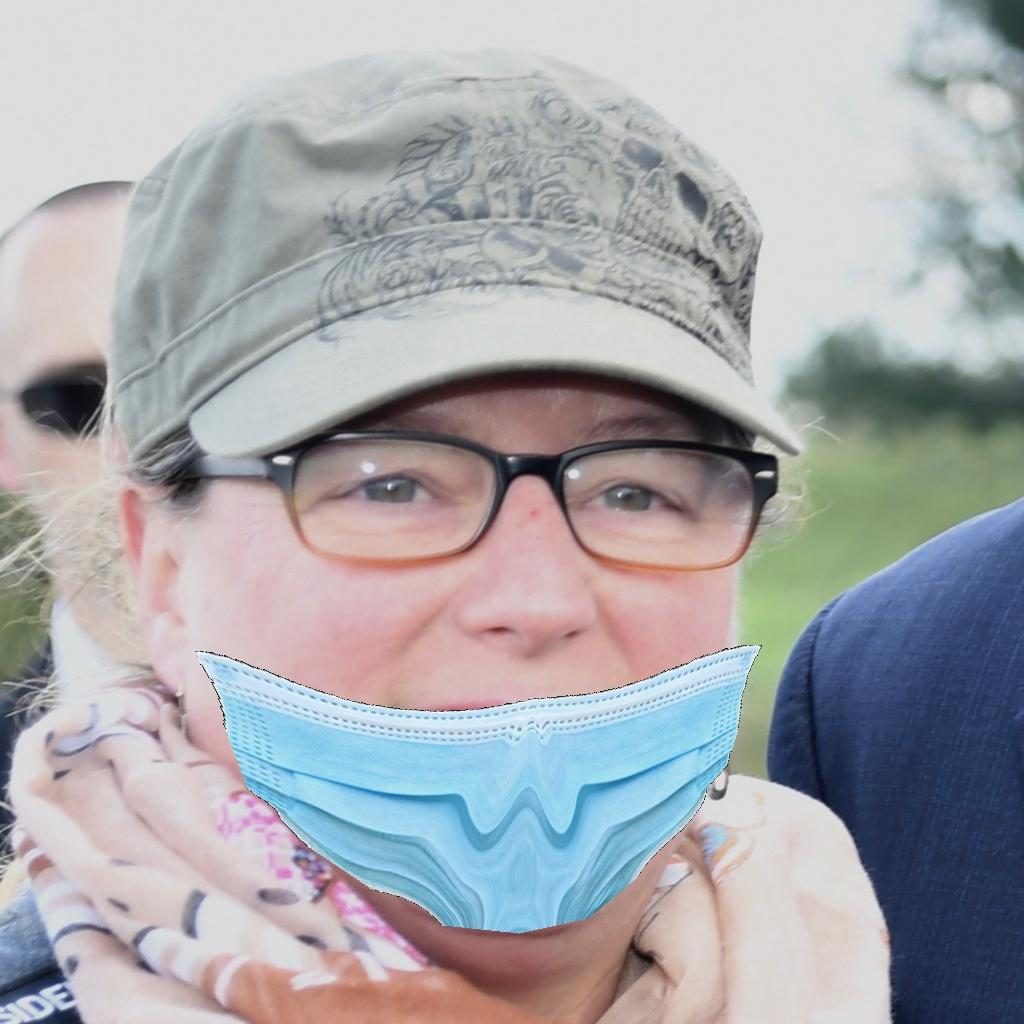Máscara Incorreta: (219, 330, 753, 923)
